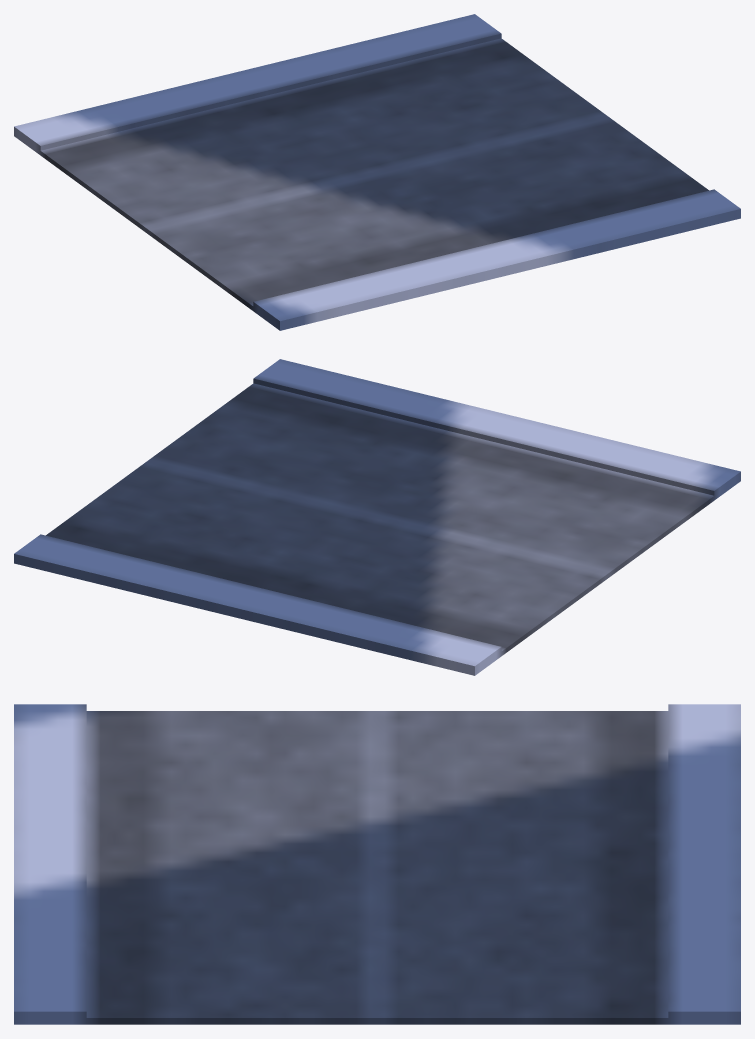
The model's file is road-21.obj.
The picture shows the model from 3 angles, top to bottom: view 1: azimuth 30°, elevation 25°; view 2: azimuth 150°, elevation 25°; view 3: azimuth 270°, elevation 25°; orthographic projection. The views are drawn at different scales.
Bounding box in the file's own units: 1 × 0.02 × 1.
1 material, 1 textured.
